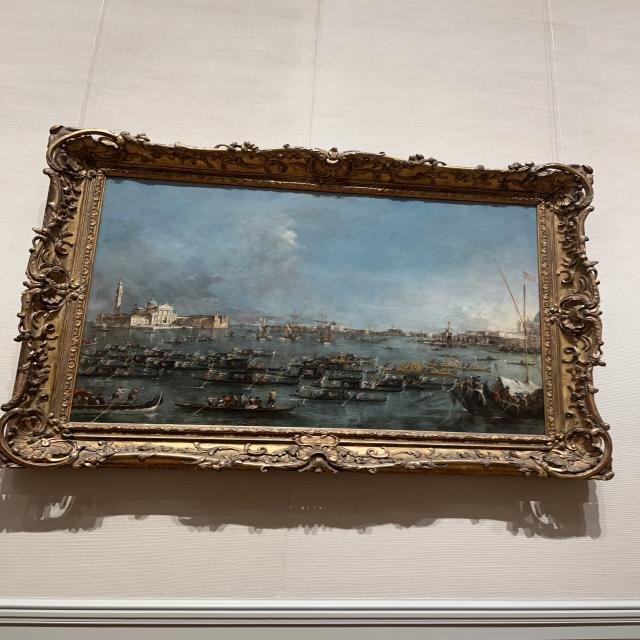ships: (69, 175, 545, 437)
